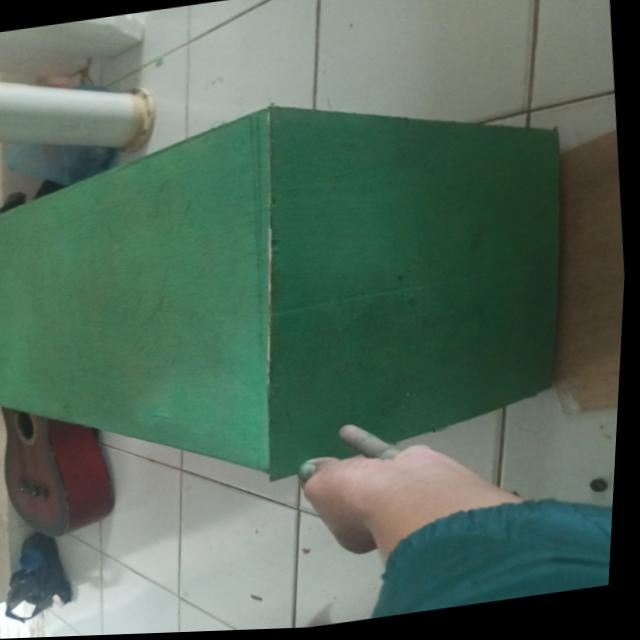green_box: (0, 67, 632, 517)
